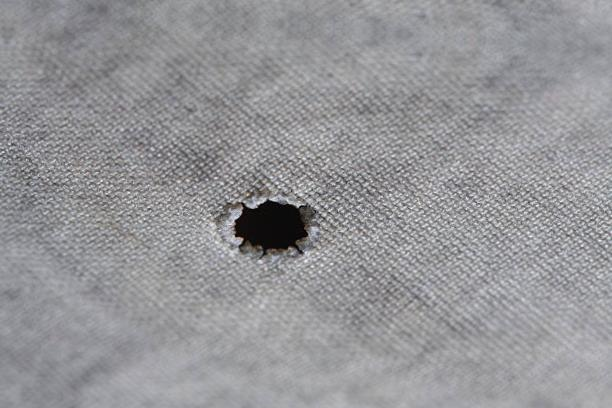hole: (215, 190, 320, 264)
